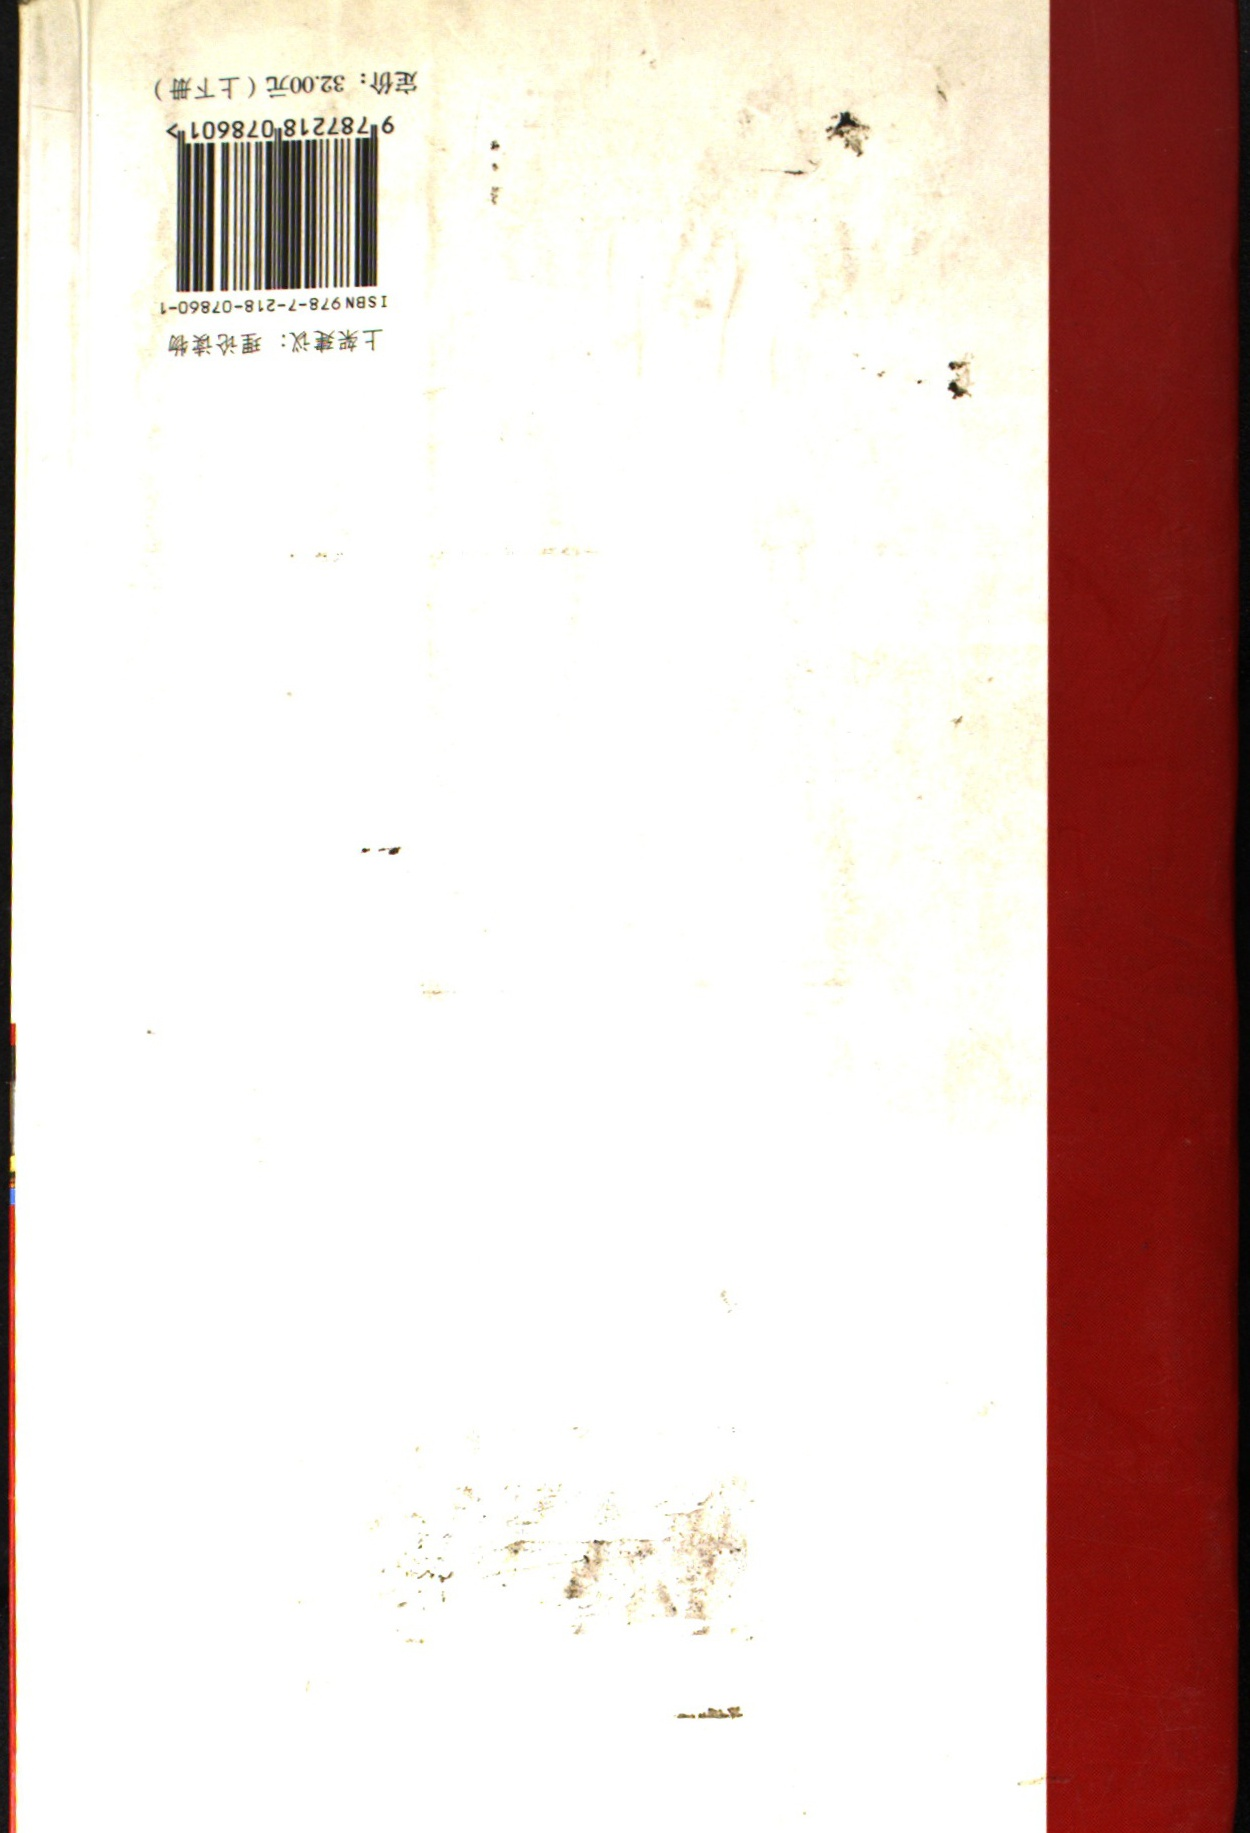barcode: (130, 109, 428, 319)
